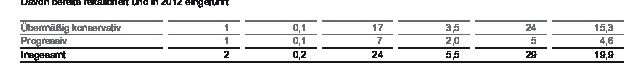table: (0, 0, 639, 83)
